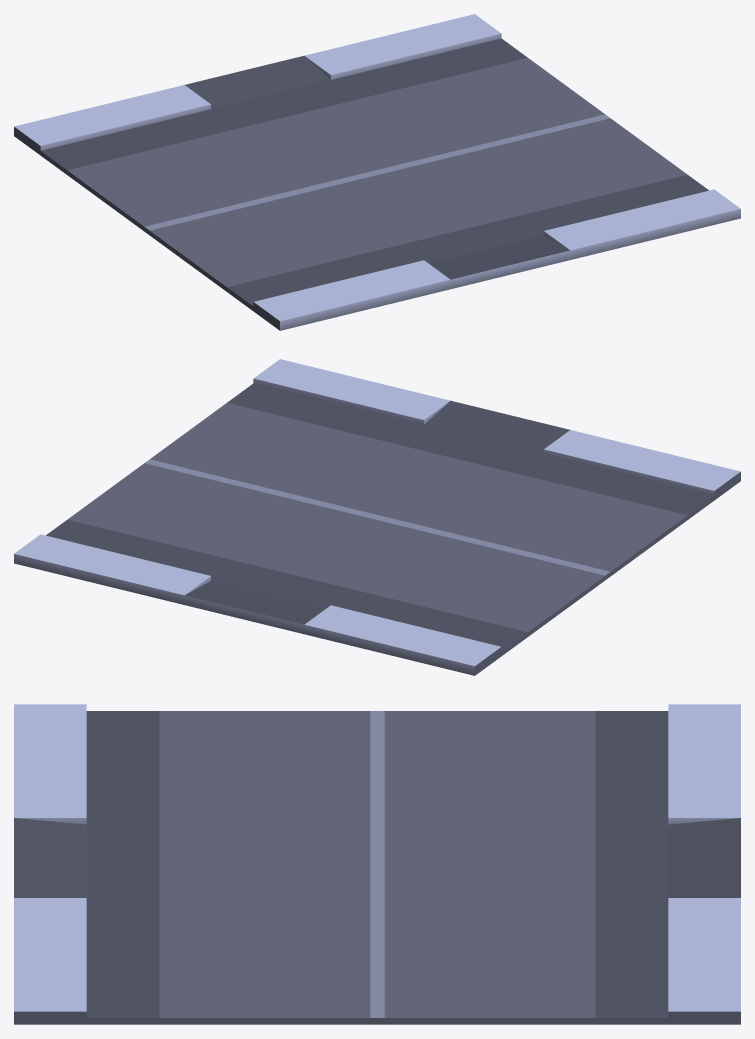
The model's file is road-driveway-double.glb.
3 renders of one model, top to bottom at view 1: azimuth 30°, elevation 25°; view 2: azimuth 150°, elevation 25°; view 3: azimuth 270°, elevation 25°, orthographic. The views are drawn at different scales.
Visible parts, largest first — view 1: road-driveway-double; view 2: road-driveway-double; view 3: road-driveway-double.
Boxes of the visible parts, x1,y1,x2,y2 form: road-driveway-double: (14,14,740,330); road-driveway-double: (14,359,740,675); road-driveway-double: (14,704,740,1024).
Size of the model in its own units: 1 by 0.02 by 1.
Materials: 1 (1 with a texture image).
